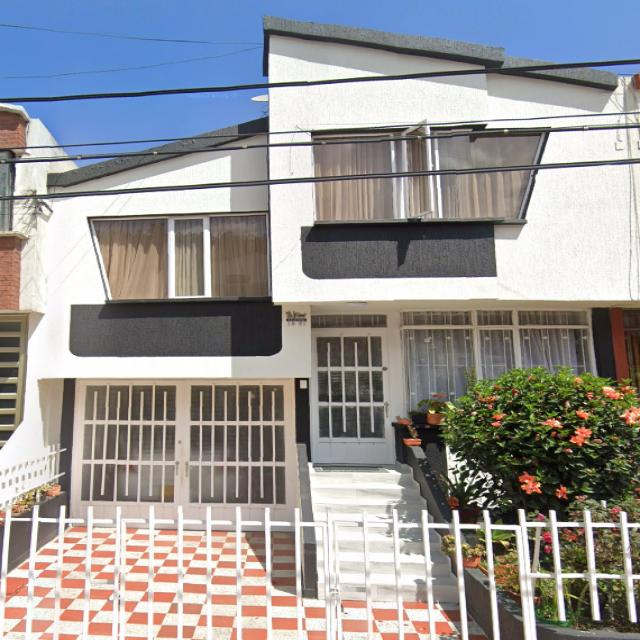Fachada: (1, 16, 640, 517)
